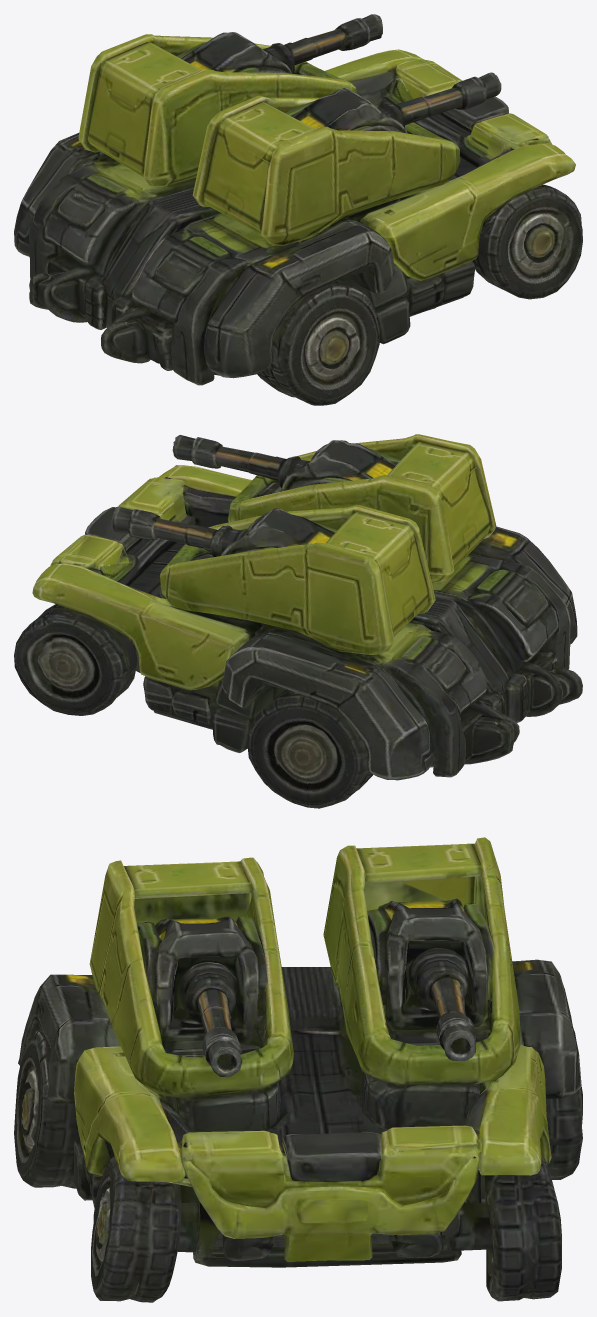
File: model-normalized-identity-review.glb
3 views of the same model, one above another, from view 1: azimuth 30°, elevation 25°; view 2: azimuth 150°, elevation 25°; view 3: azimuth 270°, elevation 25° (orthographic). The views are drawn at different scales.
Visible parts, largest first — view 1: chassis; view 2: chassis; view 3: chassis.
Part boxes in pixels (left/top/right/bottom): chassis: left=14, top=14, right=582, bottom=405; chassis: left=14, top=434, right=582, bottom=808; chassis: left=14, top=837, right=582, bottom=1302.
Bounding box in the file's own units: 0.99 × 0.522 × 0.843.
1 material, 1 textured.
